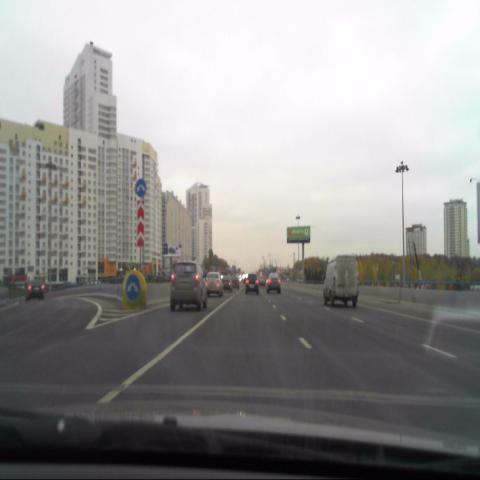4_2_3: (126, 275, 140, 300)
